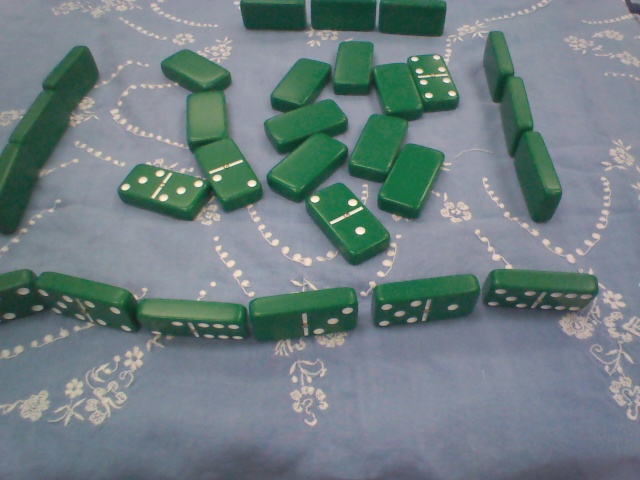A: (259, 136, 357, 195), (376, 136, 438, 214), (361, 53, 427, 124), (258, 103, 355, 145), (349, 106, 405, 178), (154, 43, 236, 92), (261, 51, 334, 106), (177, 90, 238, 149), (330, 36, 374, 97)
B: (294, 178, 389, 258), (112, 158, 208, 223), (190, 135, 263, 208), (399, 44, 460, 113)
C: (9, 91, 74, 161), (37, 43, 99, 105), (1, 140, 36, 242)
D: (509, 129, 562, 223), (491, 73, 542, 156), (471, 33, 522, 101)
E: (368, 273, 482, 339), (39, 266, 138, 341), (485, 261, 599, 319), (133, 293, 246, 349), (248, 288, 362, 343), (1, 267, 42, 325)
F: (379, 1, 450, 38), (310, 1, 380, 35), (240, 1, 309, 33)
